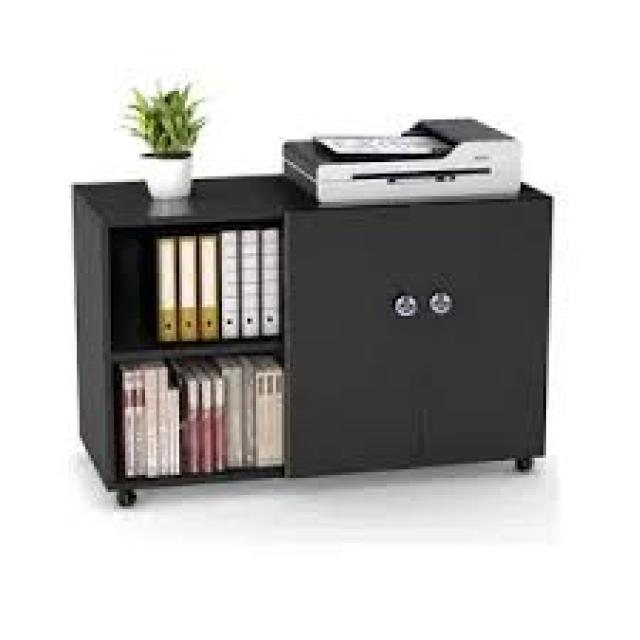printer: (278, 114, 520, 205)
